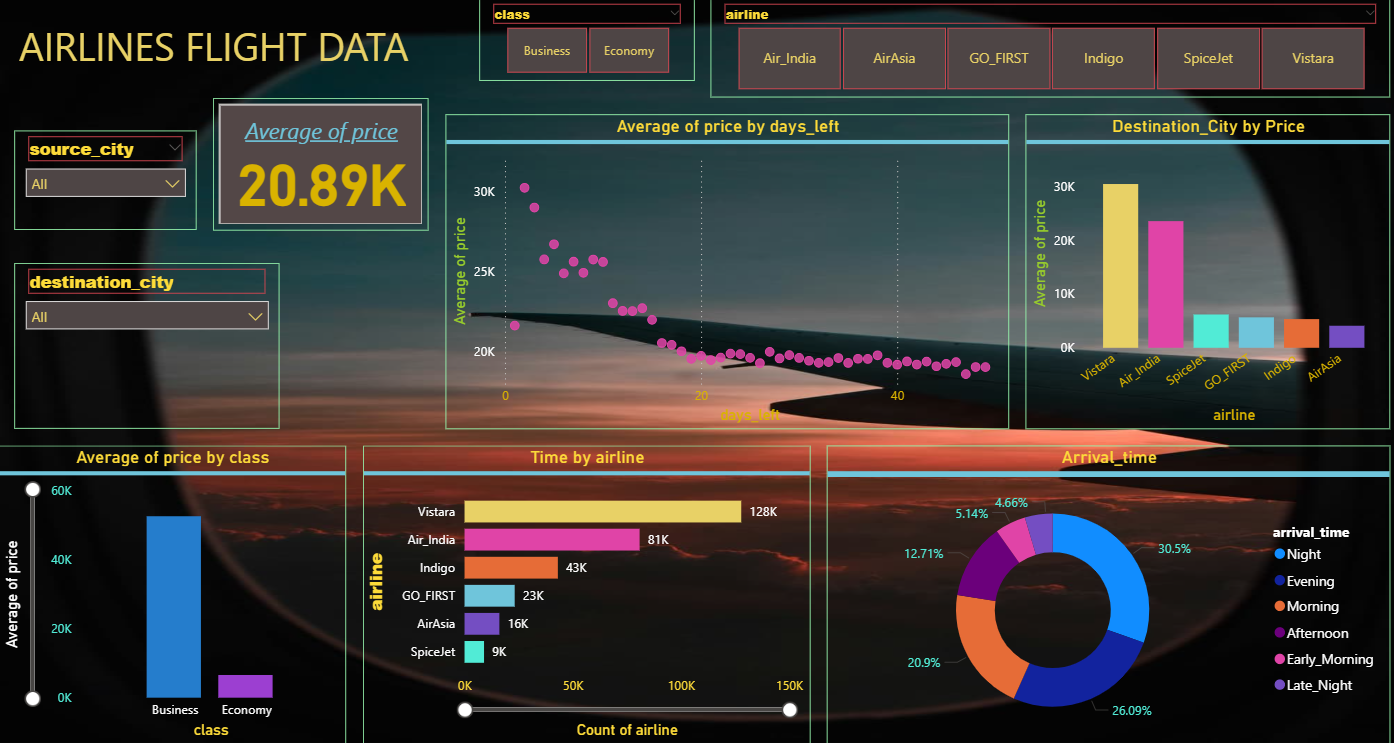

The page's visual inventory and layout, read from the dashboard file:
{"tool":"powerbi","page":{"name":"Page 2","canvas":[1350,720],"ordinal":0},"visuals":[{"type":"barChart","title":"Time by airline","fields":{"Category":["airlines_flights_data.airline"],"Y":["CountNonNull(airlines_flights_data.airline)"]},"box":[352,432,432,288],"z":0},{"type":"columnChart","fields":{"Category":["airlines_flights_data.class"],"Y":["Avg(airlines_flights_data.price)"]},"box":[0,432,336,288],"z":1000},{"type":"columnChart","title":"   Destination_City by Price","fields":{"Category":["airlines_flights_data.airline"],"Y":["Avg(airlines_flights_data.price)"]},"box":[992,112,352,304],"z":2000},{"type":"slicer","fields":{"Values":["airlines_flights_data.airline"]},"box":[688,0,656,96],"z":3000},{"type":"textbox","box":[0,16,416,96],"z":4000},{"type":"donutChart","title":" Arrival_time","fields":{"Category":["airlines_flights_data.arrival_time"],"Y":["CountNonNull(airlines_flights_data.flight)"]},"box":[800,432,544,288],"z":5000},{"type":"slicer","fields":{"Values":["airlines_flights_data.source_city"]},"box":[16,128,176,96],"z":6000},{"type":"slicer","fields":{"Values":["airlines_flights_data.destination_city"]},"box":[16,256,256,160],"z":7000},{"type":"scatterChart","fields":{"X":["airlines_flights_data.days_left"],"Y":["Avg(airlines_flights_data.price)"]},"box":[432,112,544,304],"z":8000},{"type":"cardVisual","fields":{"Data":["Avg(airlines_flights_data.price)"]},"box":[208,96,208,128],"z":9000},{"type":"slicer","fields":{"Values":["airlines_flights_data.class"]},"box":[464,0,208,80],"z":10000}]}

Visuals, with their boxes in screenshot pixels (x1, y1, x2, y2), scaled from the page's 1350x720 canvas onto the 1394x743 screenshot:
"Time by airline" barChart: {"left": 363, "top": 446, "right": 810, "bottom": 742}
columnChart - airlines_flights_data.class x Avg(airlines_flights_data.price): {"left": 0, "top": 446, "right": 347, "bottom": 742}
"   Destination_City by Price" columnChart: {"left": 1024, "top": 116, "right": 1388, "bottom": 429}
slicer - airlines_flights_data.airline: {"left": 710, "top": 0, "right": 1388, "bottom": 99}
textbox: {"left": 0, "top": 17, "right": 430, "bottom": 116}
" Arrival_time" donutChart: {"left": 826, "top": 446, "right": 1388, "bottom": 742}
slicer - airlines_flights_data.source_city: {"left": 17, "top": 132, "right": 198, "bottom": 231}
slicer - airlines_flights_data.destination_city: {"left": 17, "top": 264, "right": 281, "bottom": 429}
scatterChart - airlines_flights_data.days_left x Avg(airlines_flights_data.price): {"left": 446, "top": 116, "right": 1008, "bottom": 429}
cardVisual - Avg(airlines_flights_data.price): {"left": 215, "top": 99, "right": 430, "bottom": 231}
slicer - airlines_flights_data.class: {"left": 479, "top": 0, "right": 694, "bottom": 83}
